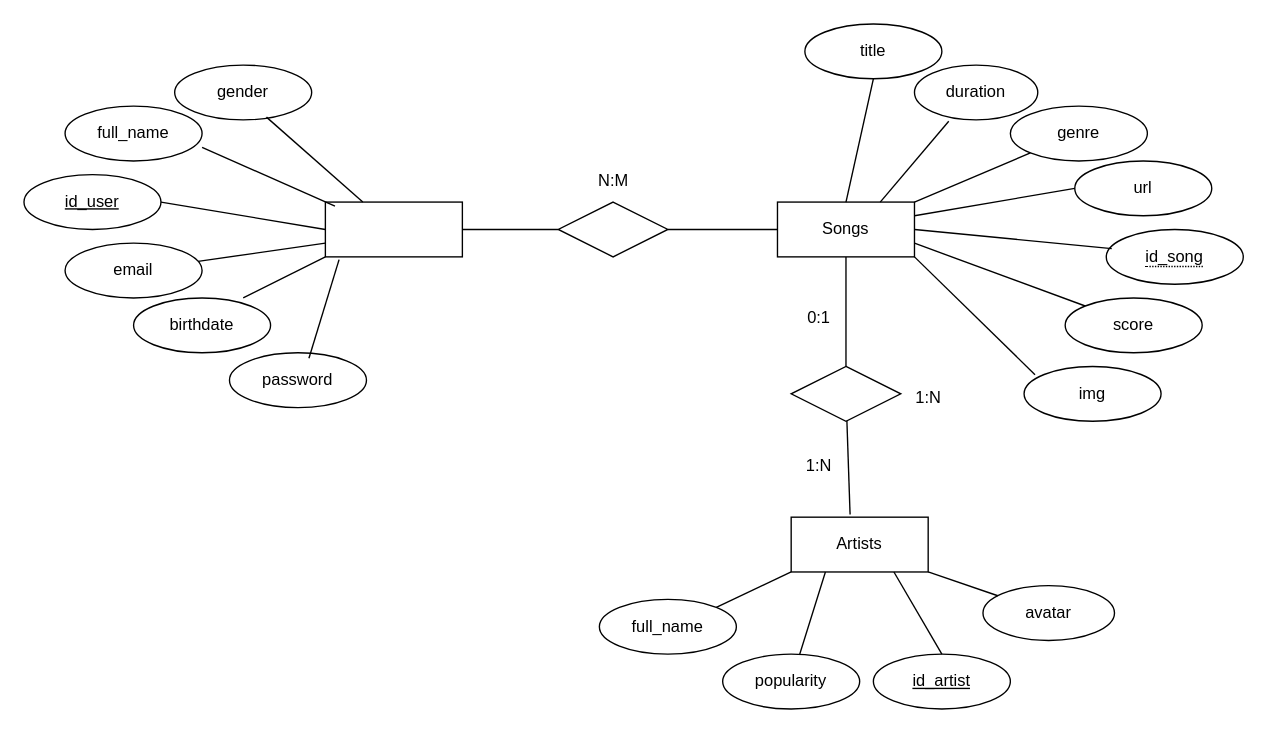
This 1267x733 diagram has some shape labels left out. Here are the shapes that lost their labels. From the top down, the centre of each, then its label:
the point at 393,229: Users
the point at 612,229: r1
the point at 845,393: r2
